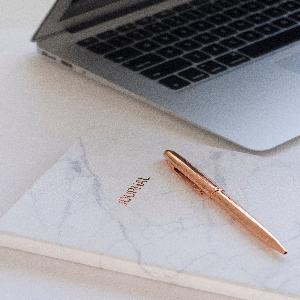pen: (161, 149, 290, 256)
